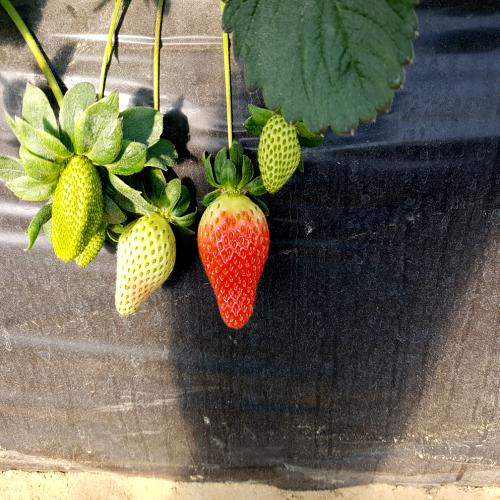partially-ripe: (195, 186, 278, 340)
unripe: (115, 201, 182, 329), (260, 111, 304, 194)
